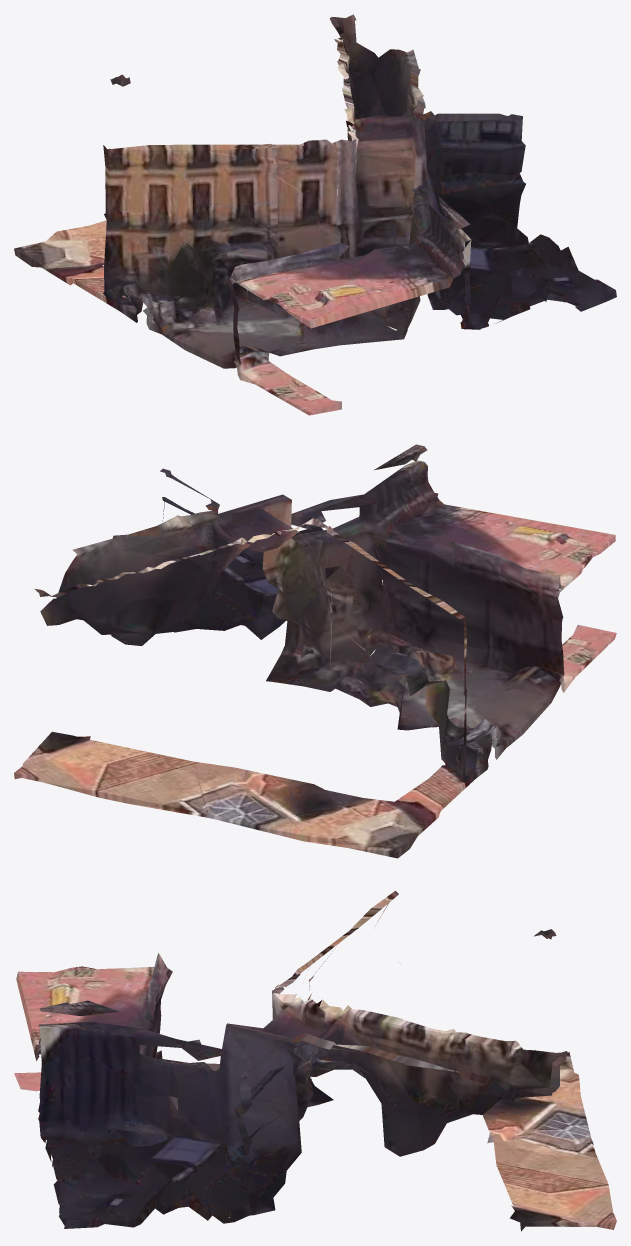
The picture shows the model from 3 angles, top to bottom: view 1: azimuth 30°, elevation 25°; view 2: azimuth 150°, elevation 25°; view 3: azimuth 270°, elevation 25°; orthographic projection. The views are drawn at different scales.
Parts seen in each view (by area): view 1: Mesh_0; view 2: Mesh_0; view 3: Mesh_0.
Boxes of the visible parts, bbox=[...] form: Mesh_0: bbox=[14, 14, 616, 415]; Mesh_0: bbox=[14, 444, 616, 858]; Mesh_0: bbox=[14, 891, 616, 1231].
Bounding box in the file's own units: 33.3 × 13.86 × 41.37.
1 material, 1 textured.
